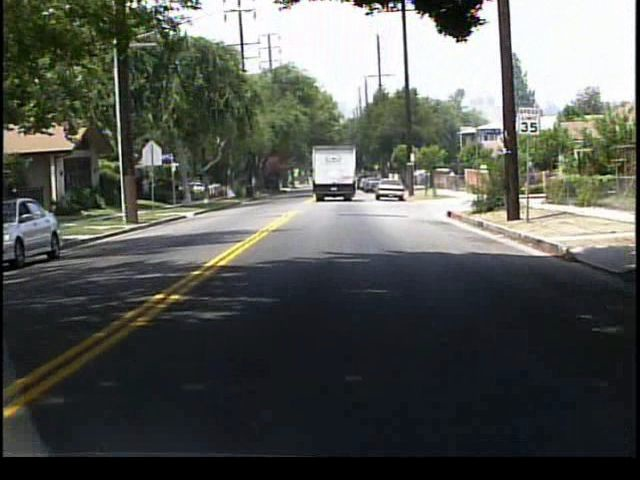person: (447, 168, 458, 191)
